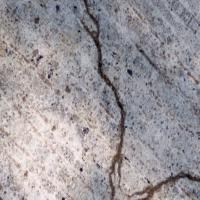crack: (80, 3, 196, 199)
